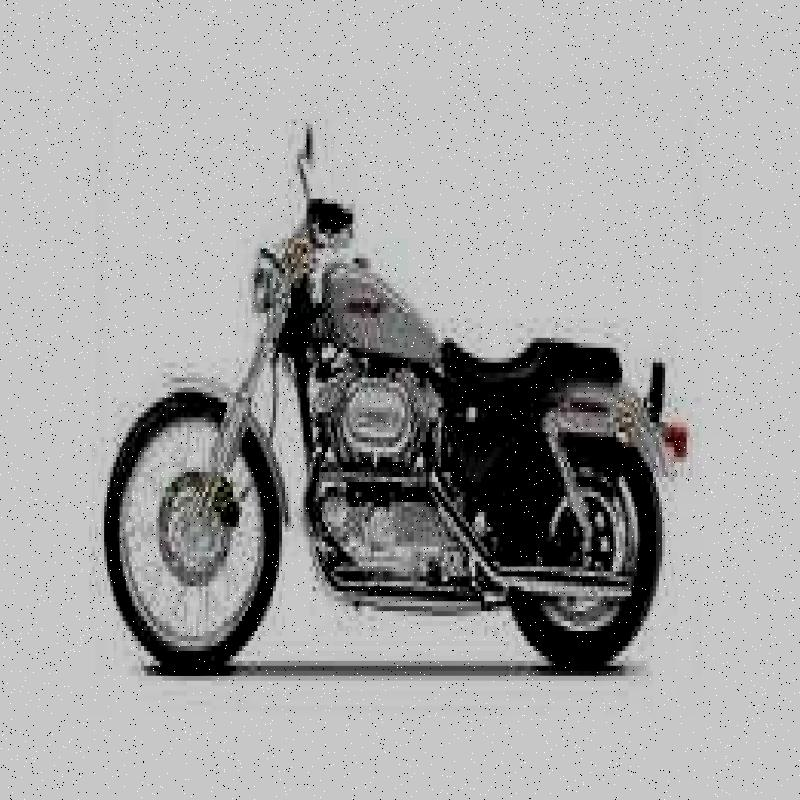bike: (94, 128, 696, 697)
